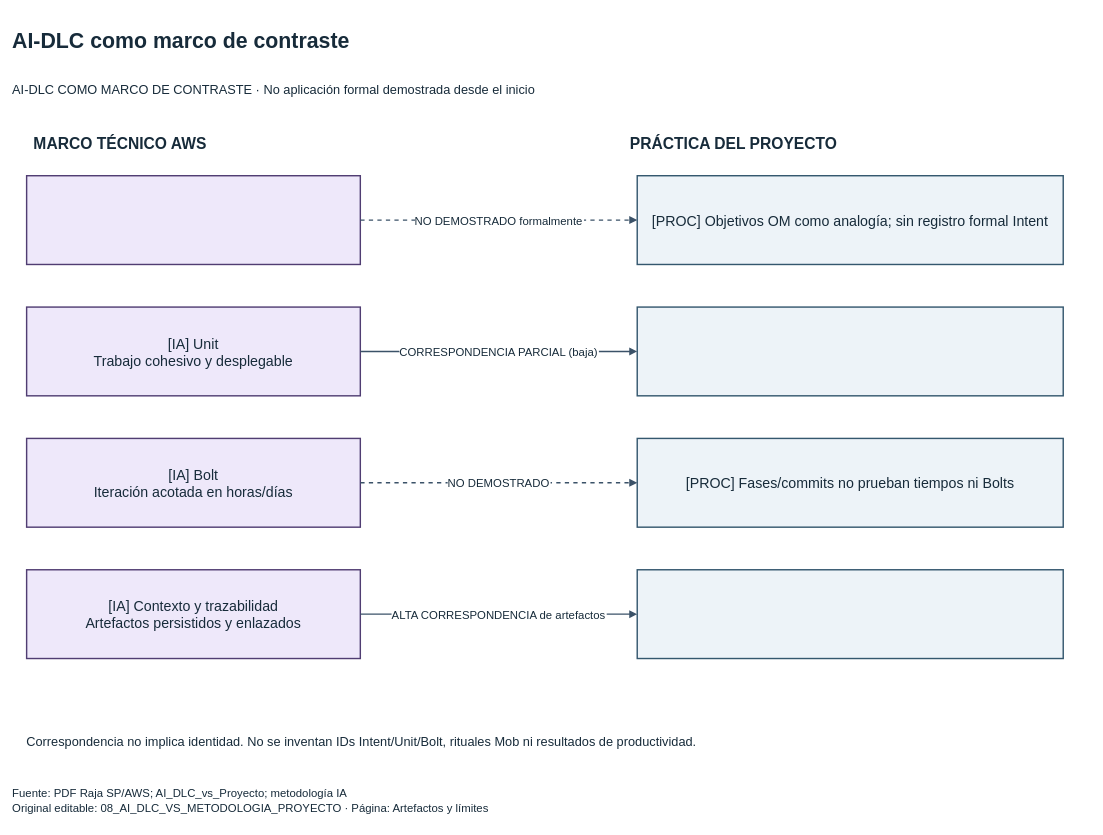
Some shapes in this 1103 by 835 pixel diagram are drawn without their labels. Here are the shapes that lost their labels. From the top down, the centre of each, then its label:
At point (193, 220): "[IA] Intent Propósito de alto nivel".
At point (850, 351): "[PROC] Módulos de monolito; no unidad independiente acreditada".
At point (850, 614): "[PROC] Docs/Git/RF→código→test; prompts incompletos".
